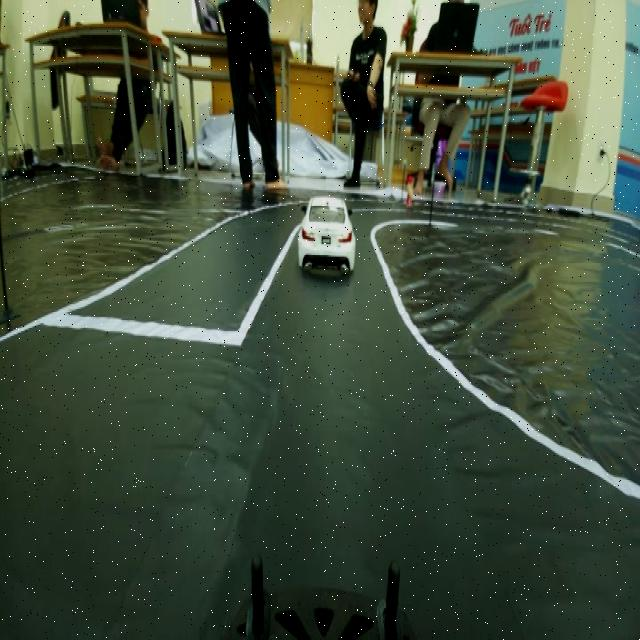car: (296, 186, 364, 284)
